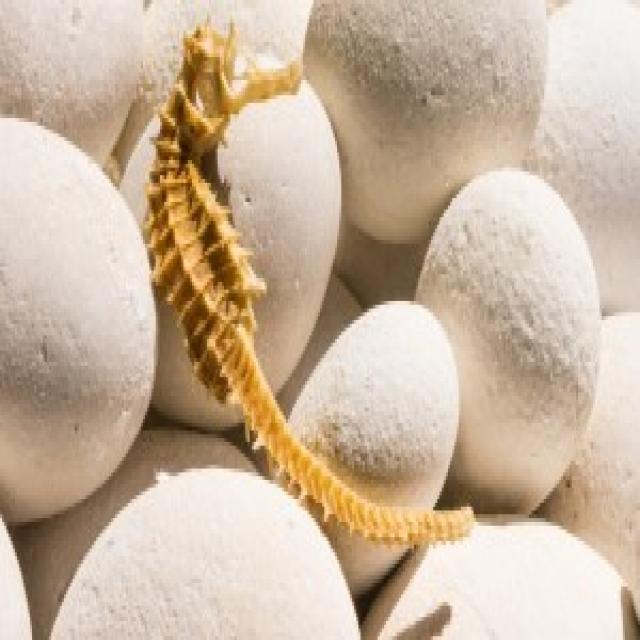Seahorse: (145, 20, 488, 548)
